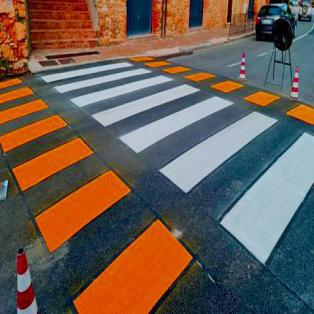Paso de Cebra: (113, 89, 283, 203)
